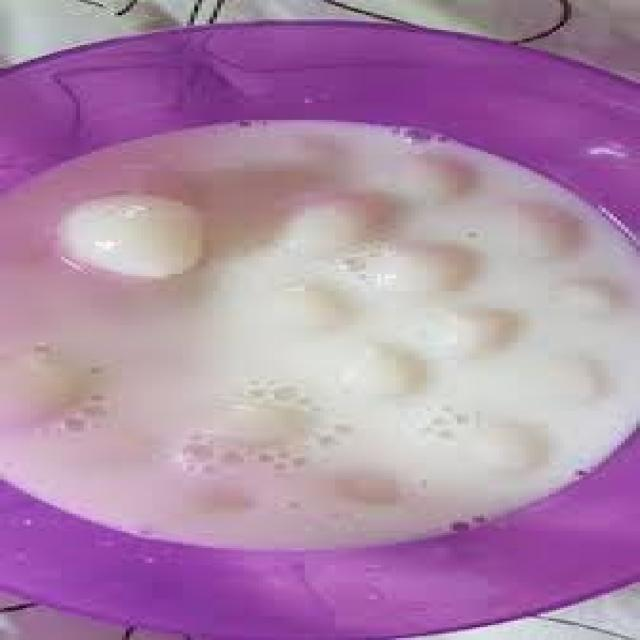paal kolukattai: (19, 131, 578, 569)
